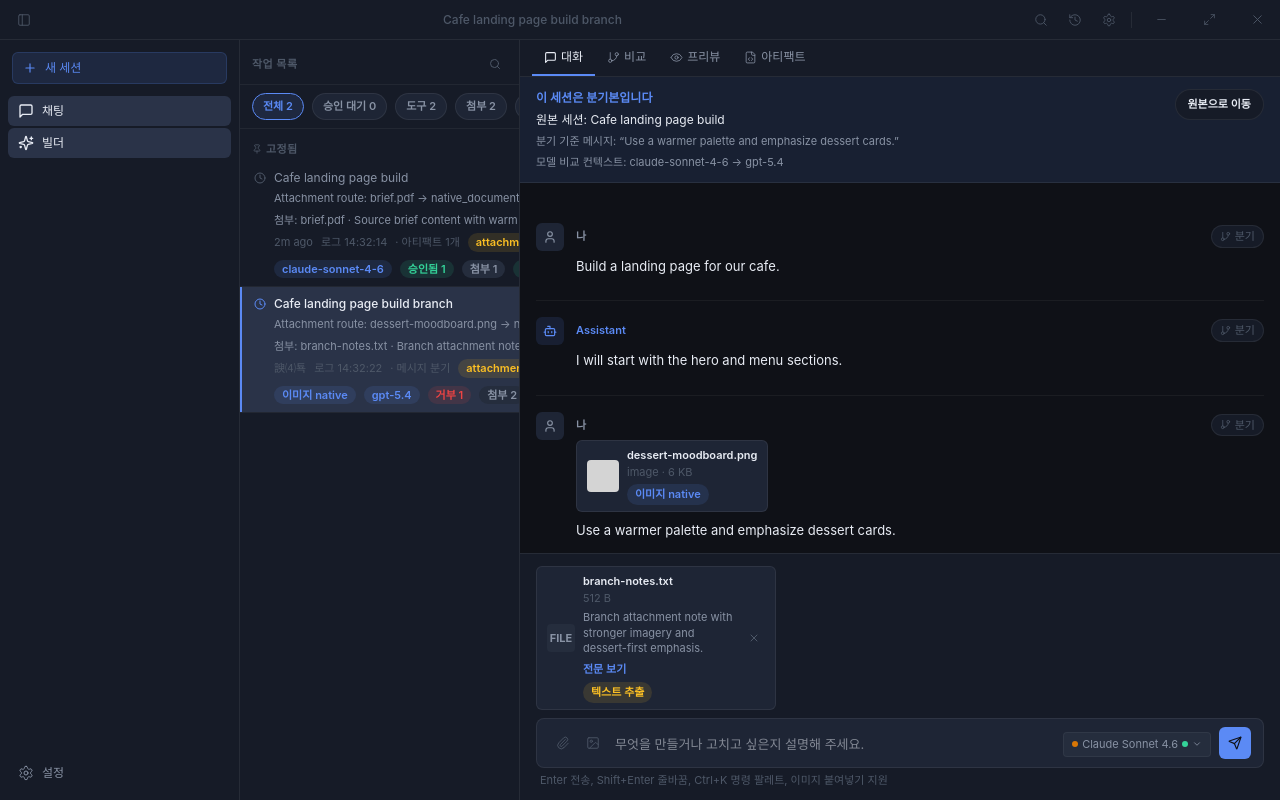
Scenario: App shell › renders compare mode for a branched session
Click the tab "비교".
click(627, 58)  # box left=595, top=40, right=658, bottom=76
(page scrolled)
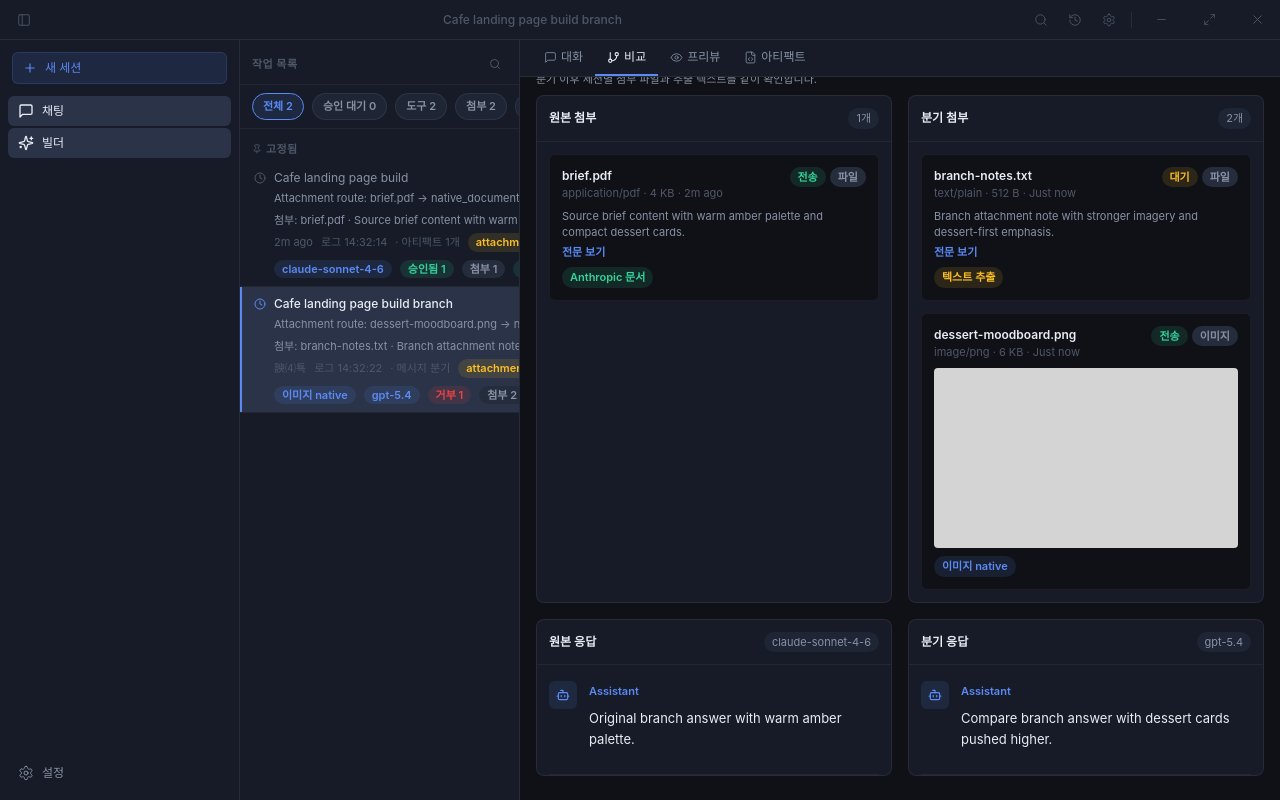
Expected: the text "원본 응답" is shown, left=549, top=633, right=596, bottom=651
Expected: the text "분기 응답" is shown, left=921, top=633, right=968, bottom=651
Expected: the element that starts with "brief.pdf" is shown, left=549, top=154, right=879, bottom=301
